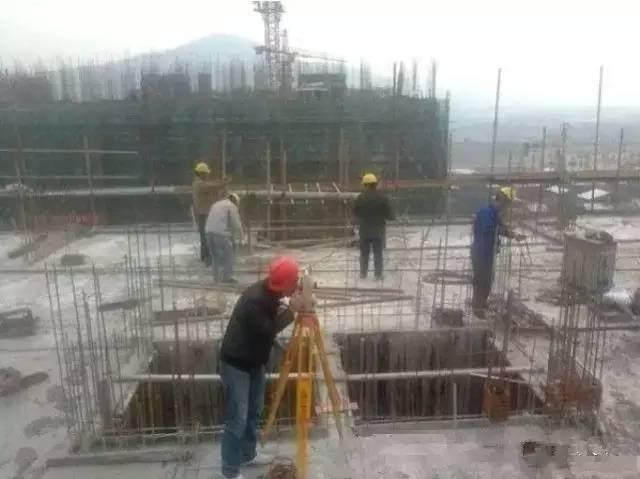helmet: (267, 255, 301, 298), (500, 185, 523, 203), (364, 171, 380, 188), (196, 162, 212, 179)
